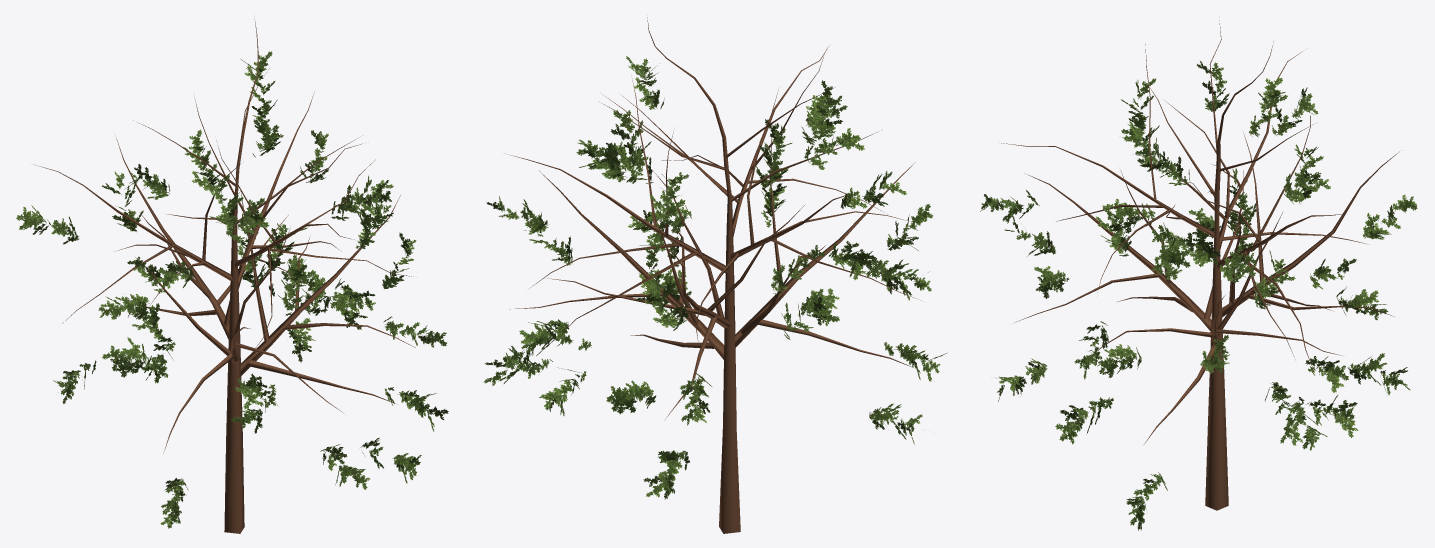
The model's file is tree2_lod1.glb.
The picture shows the model from 3 angles, left to right: view 1: azimuth 30°, elevation 25°; view 2: azimuth 150°, elevation 25°; view 3: azimuth 270°, elevation 25°; orthographic projection. The views are drawn at different scales.
Visible parts, largest first — view 1: leaves, trunk; view 2: leaves, trunk; view 3: leaves, trunk.
Part boxes in pixels (<box>): leaves: <box>16,51,448,528</box>; trunk: <box>34,19,415,533</box>; leaves: <box>483,56,947,499</box>; trunk: <box>505,17,920,533</box>; leaves: <box>980,61,1417,530</box>; trunk: <box>1001,20,1401,510</box>.
Size of the model in its own units: 26094 by 31669 by 25827.
2 materials, 1 textured.
